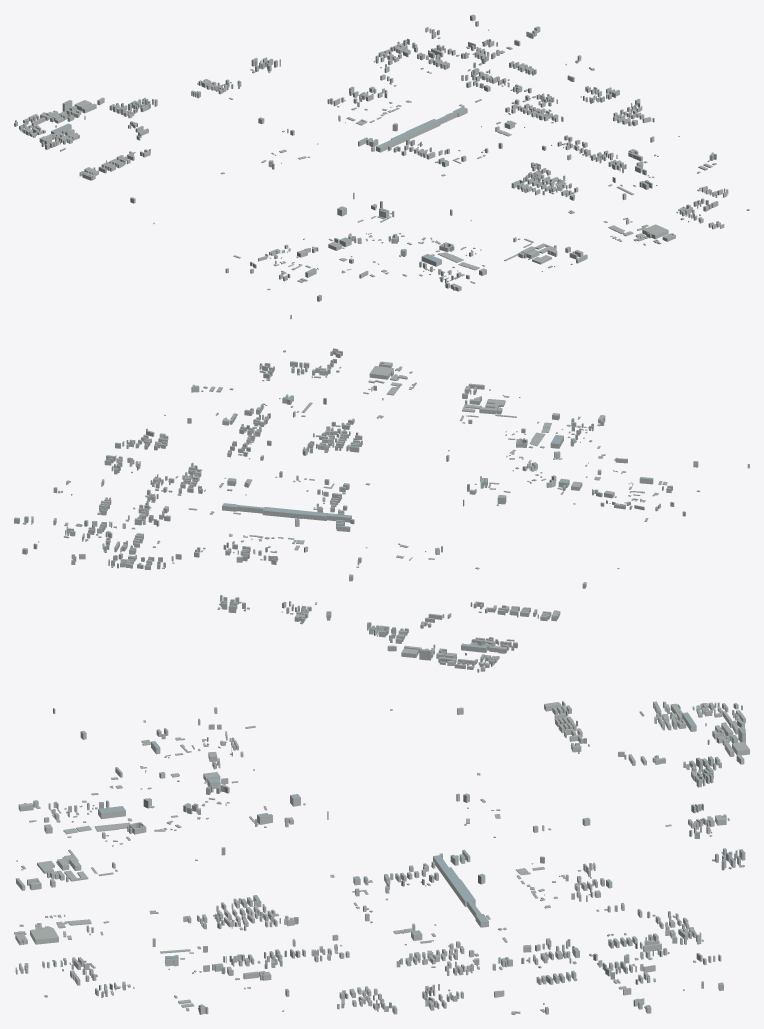
Rendered from far.glb.
3 views of the same model, one above another, from view 1: azimuth 30°, elevation 25°; view 2: azimuth 150°, elevation 25°; view 3: azimuth 270°, elevation 25° (orthographic). The views are drawn at different scales.
Bounding box in the file's own units: 2105 × 36.72 × 2118.
